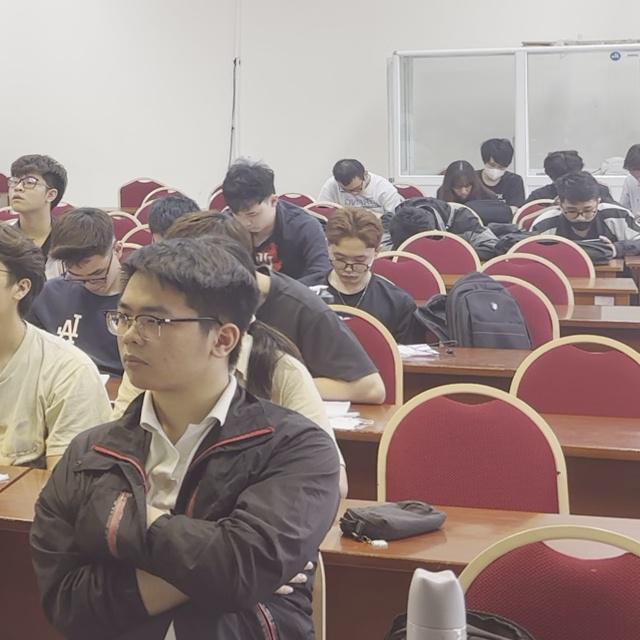Looking away: (65, 253, 114, 290), (329, 250, 374, 288), (562, 184, 597, 231), (616, 131, 640, 197), (233, 202, 270, 236), (448, 167, 476, 208), (336, 164, 364, 197), (482, 153, 508, 181)
Looking forward: (107, 294, 187, 379), (0, 233, 36, 357), (8, 170, 36, 210)
